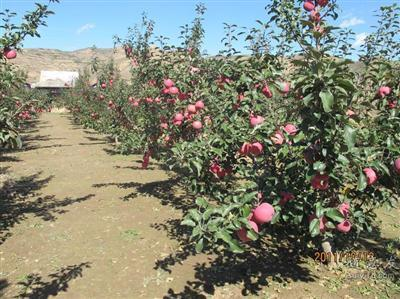apple: (253, 203, 274, 223)
